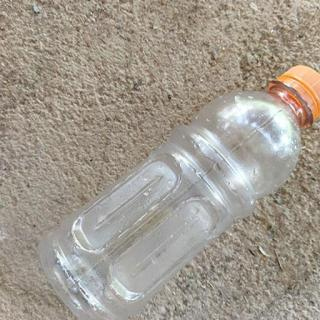Plastic-bottle: (38, 64, 320, 320)
